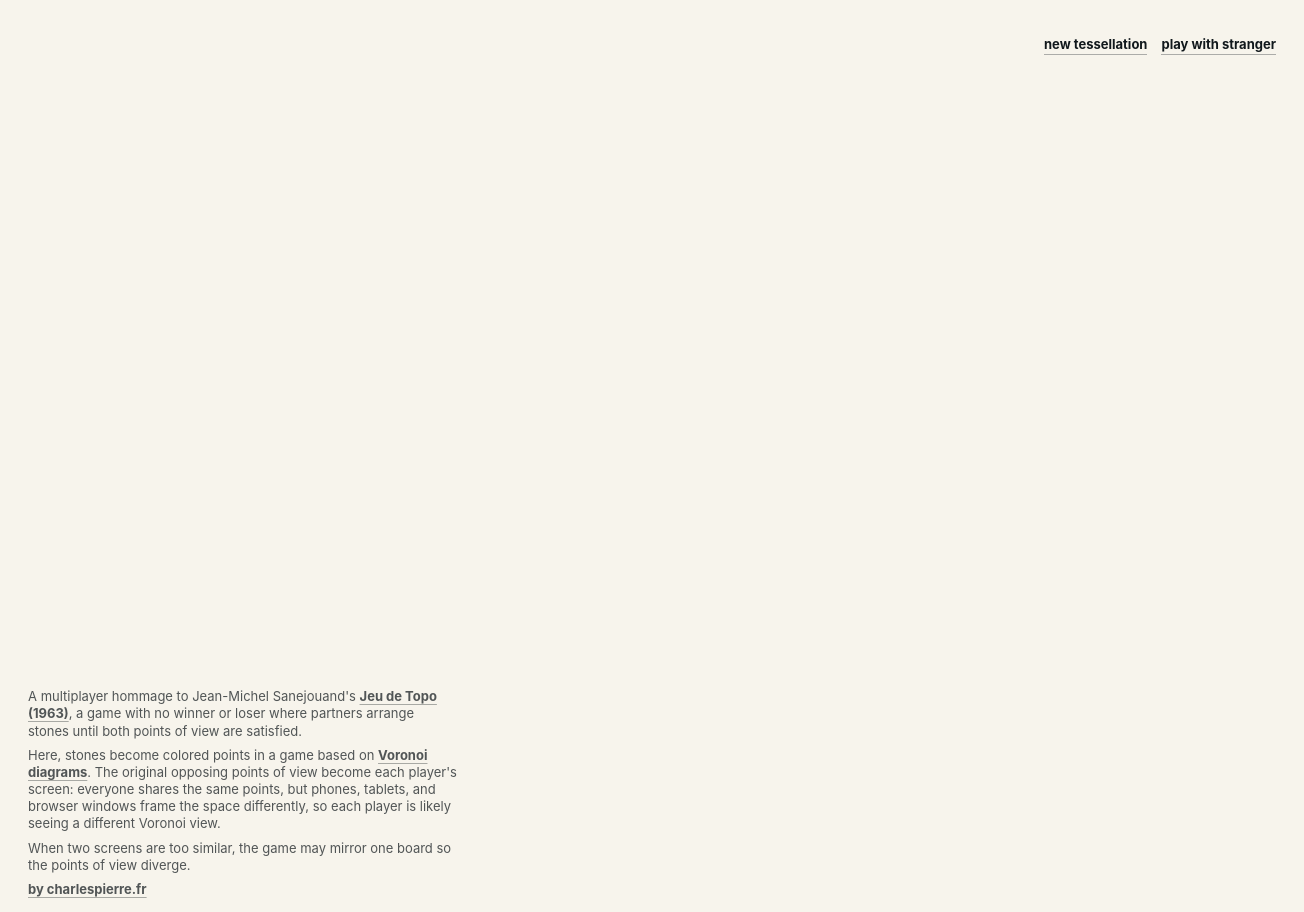
App stranger matchmaking › enters a waiting state after requesting a stranger match
Click the button "play with stranger" at coordinates (1219, 44), box x1=1162 y1=34 x2=1276 y2=55
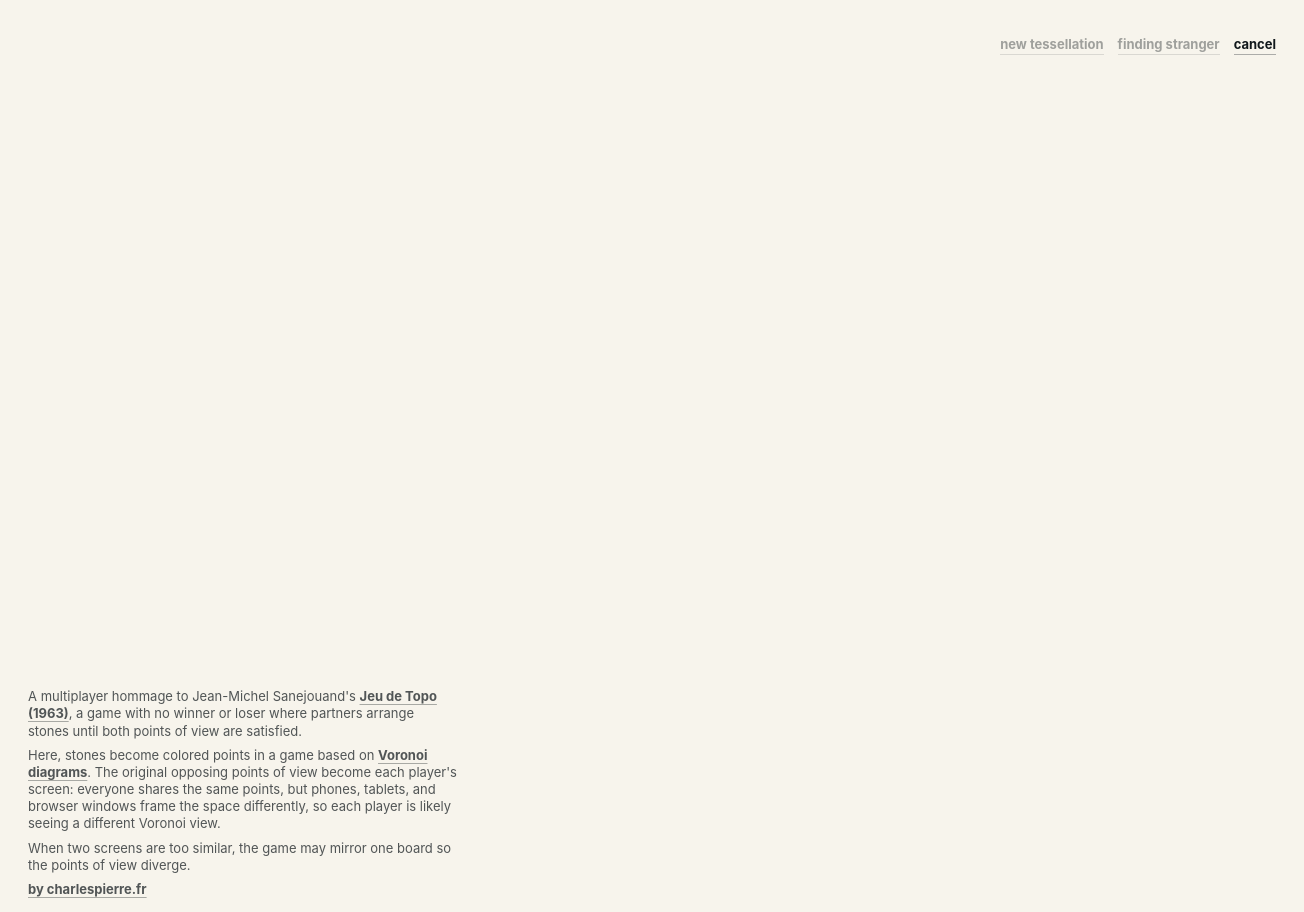
Expected: the button "finding stranger" is disabled, x1=1118 y1=34 x2=1220 y2=55
Expected: the button "cancel" is shown, x1=1234 y1=34 x2=1276 y2=55
